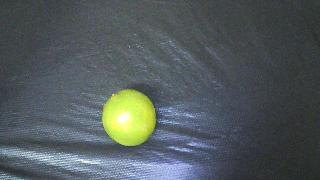LOCAL: (102, 89, 156, 146)
